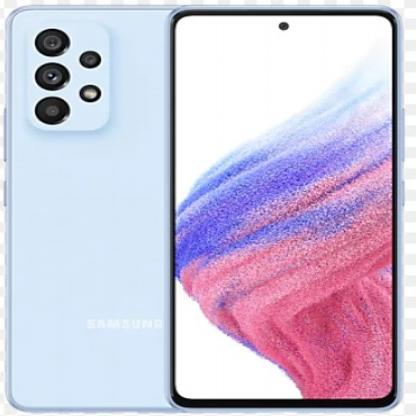SMARTPHONE: (2, 7, 413, 415)
